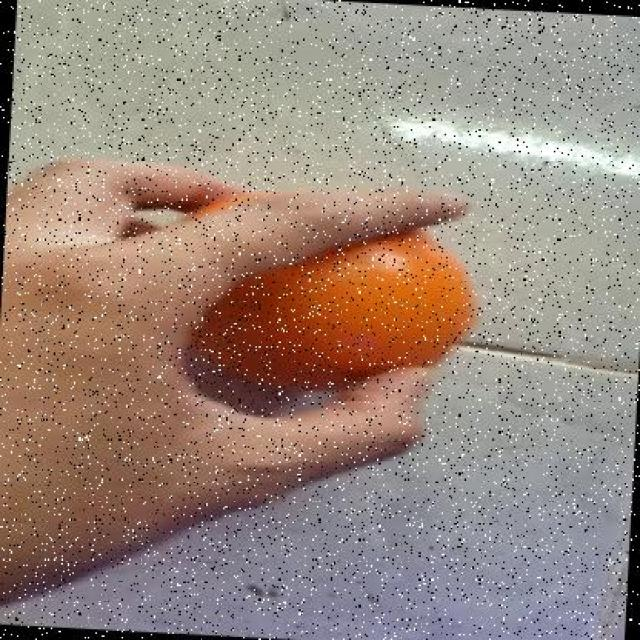Orange: (191, 223, 480, 394)
